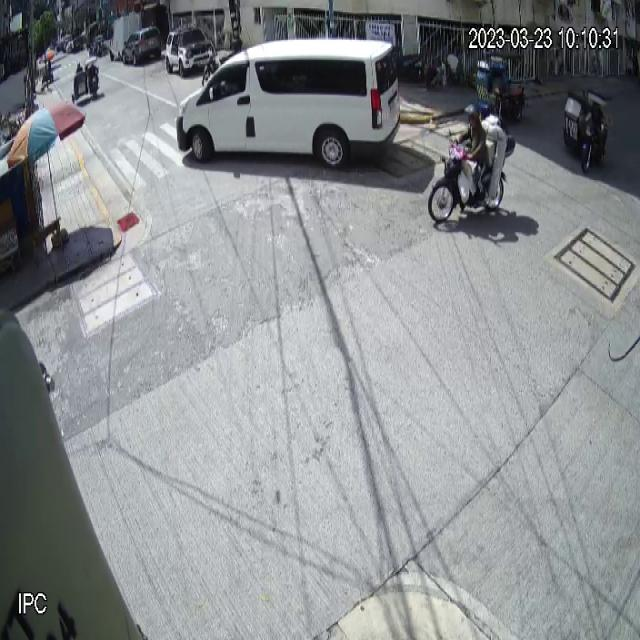Motorcycle: (428, 128, 516, 224)
Tricycle: (562, 85, 614, 175), (476, 50, 526, 120)
Van: (176, 35, 401, 170)
